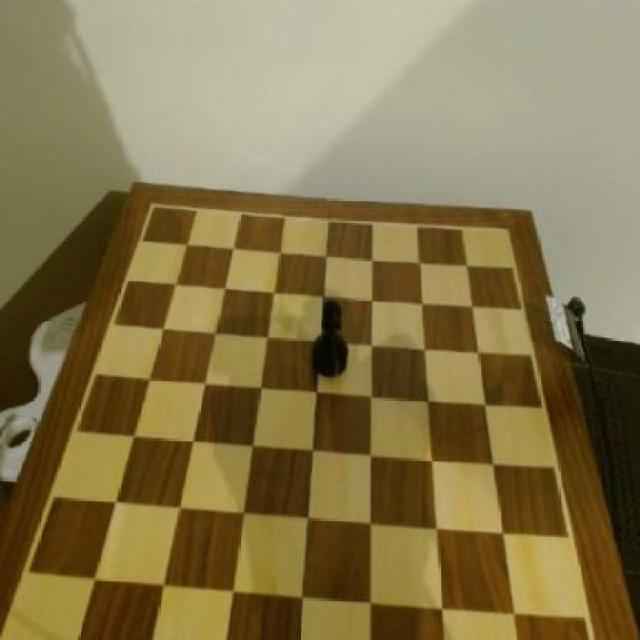black-knight: (311, 294, 353, 381)
